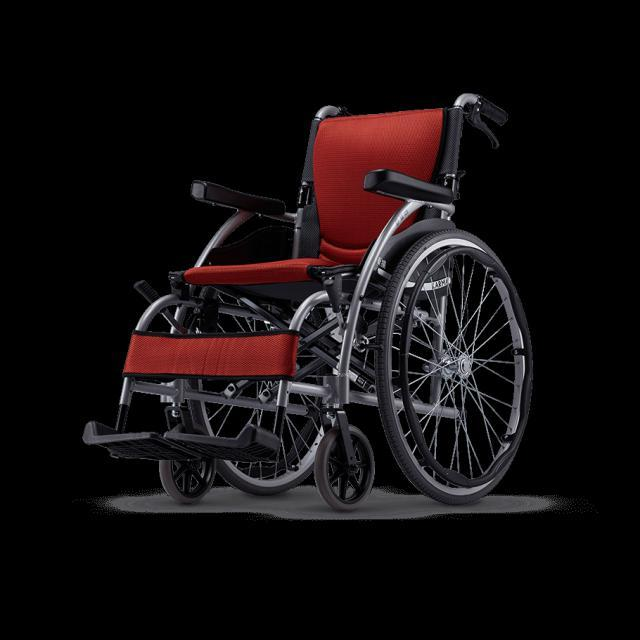wheelchair: (93, 94, 558, 534)
